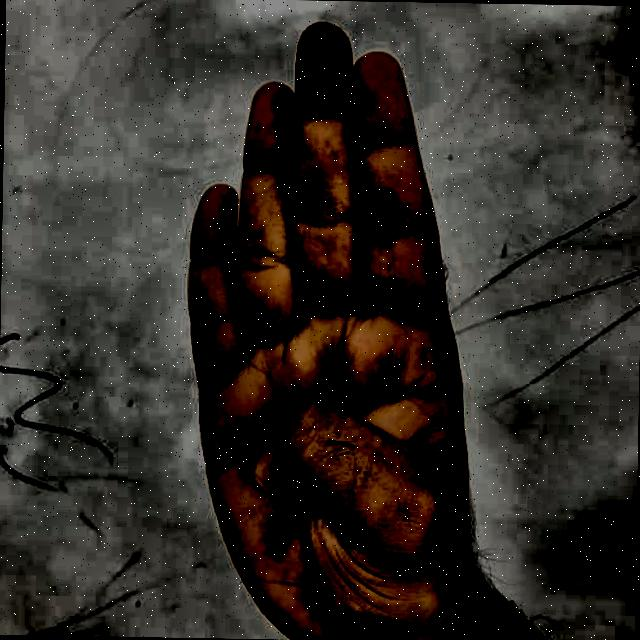Ba: (131, 5, 543, 640)
